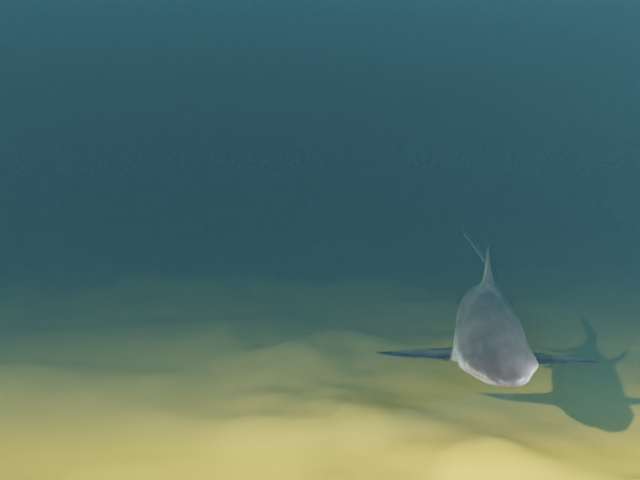Carribean Shark.001: (375, 222, 599, 387)
